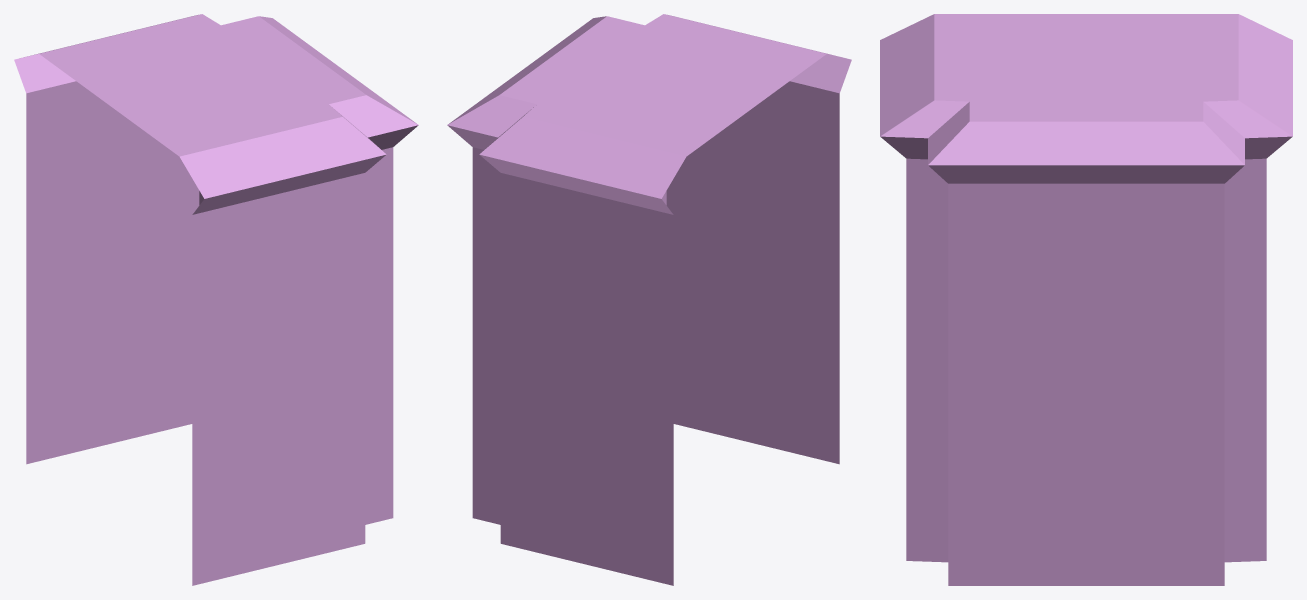
File: Museum_renfort_02.fbx
The picture shows the model from 3 angles, left to right: view 1: azimuth 30°, elevation 25°; view 2: azimuth 150°, elevation 25°; view 3: azimuth 270°, elevation 25°; orthographic projection. The views are drawn at different scales.
Parts seen in each view (by area): view 1: Archi_Renforts.002; view 2: Archi_Renforts.002; view 3: Archi_Renforts.002.
Part boxes in pixels (<box>): Archi_Renforts.002: <box>14,14,418,585</box>; Archi_Renforts.002: <box>447,14,851,585</box>; Archi_Renforts.002: <box>880,14,1292,585</box>.
Bounding box in the file's own units: 54.12 × 91.79 × 75.42.
